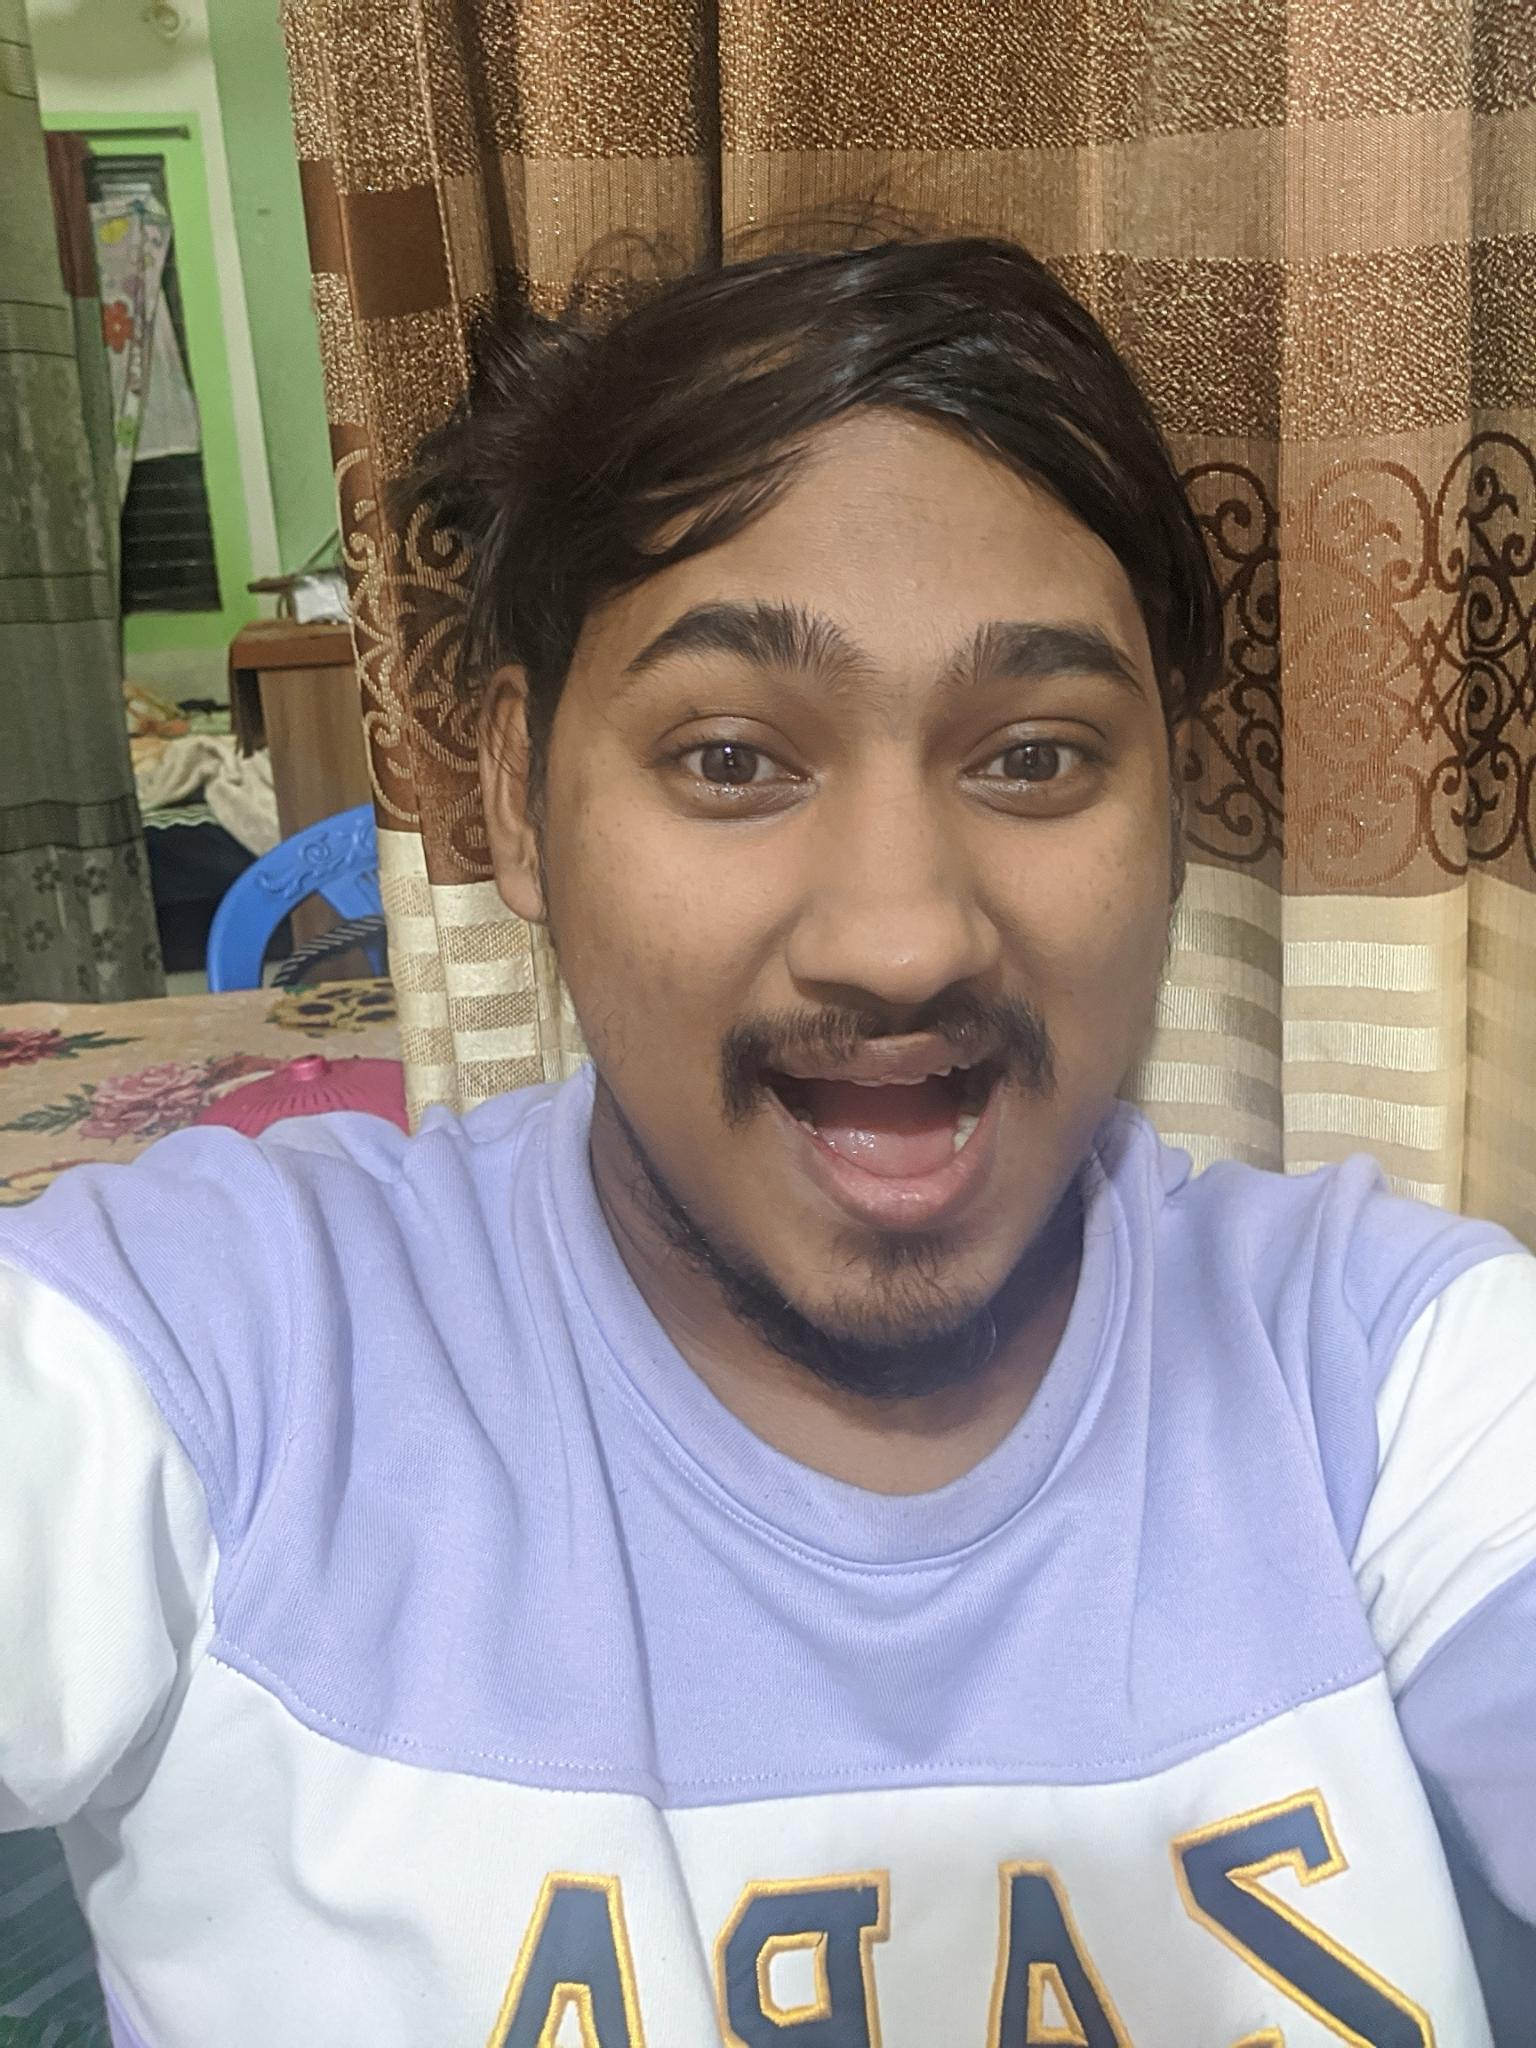Surprise: (544, 521, 1191, 1326)
